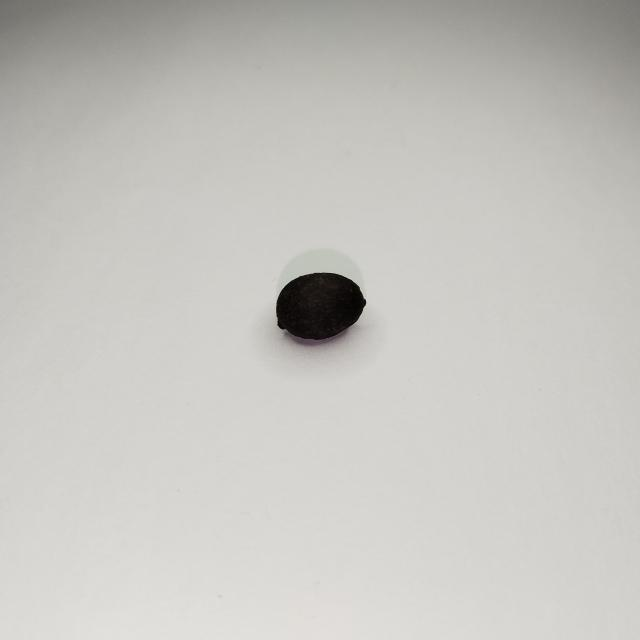Danado: (277, 273, 367, 341)
